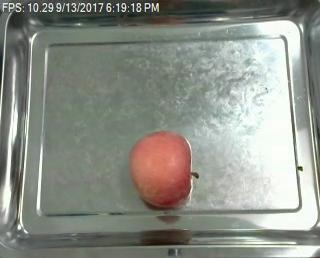apple: (129, 130, 201, 210)
